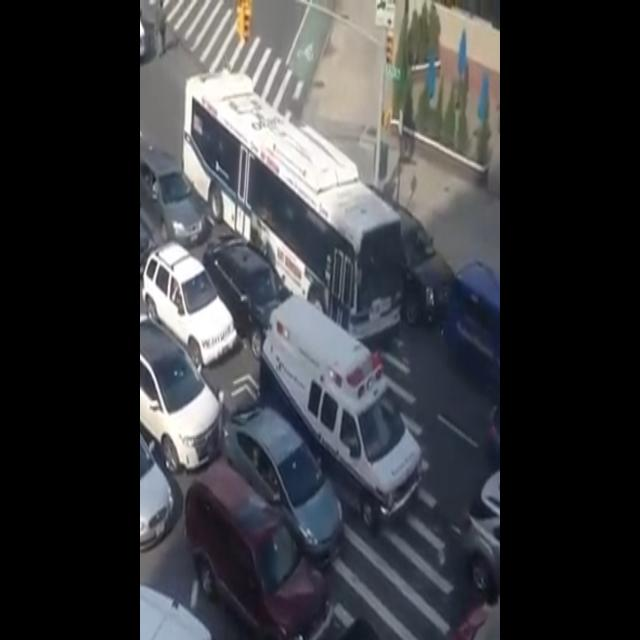Ambulance: (261, 290, 424, 546)
